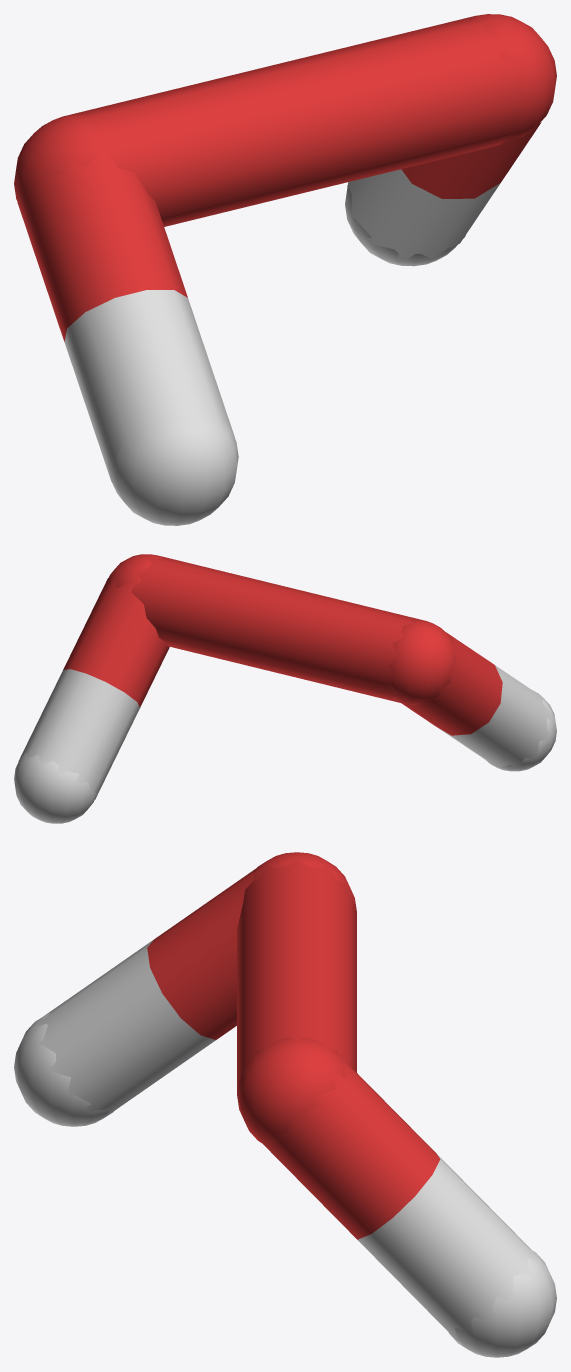
The model's file is h2o2-sticks.glb.
The picture shows the model from 3 angles, top to bottom: view 1: azimuth 30°, elevation 25°; view 2: azimuth 150°, elevation 25°; view 3: azimuth 270°, elevation 25°; orthographic projection. The views are drawn at different scales.
Visible parts, largest first — view 1: h2o2-sticks; view 2: h2o2-sticks; view 3: h2o2-sticks.
Part boxes in pixels (x1=…): h2o2-sticks: x1=14, y1=14, x2=556, y2=525; h2o2-sticks: x1=14, y1=554, x2=556, y2=823; h2o2-sticks: x1=14, y1=852, x2=556, y2=1357.
Size of the model in its own units: 2.05 by 1.1 by 1.81.
